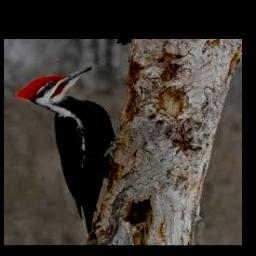Woodpecker: (15, 65, 116, 236)
